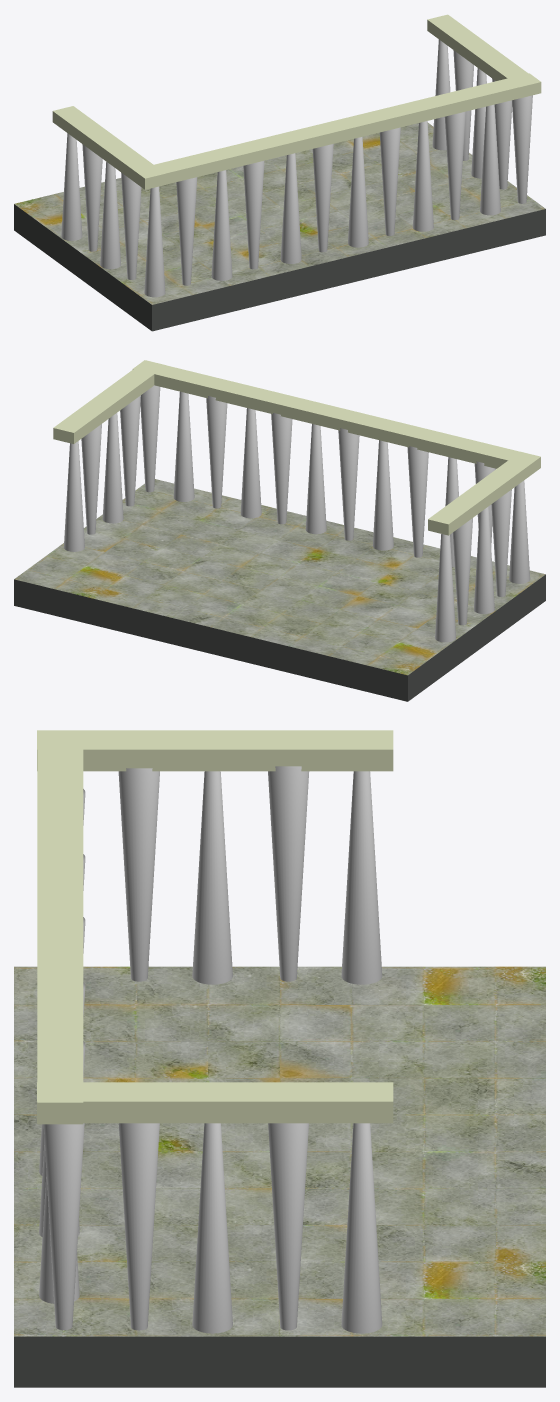
The model's file is balkon.fbx.
The picture shows the model from 3 angles, top to bottom: view 1: azimuth 30°, elevation 25°; view 2: azimuth 150°, elevation 25°; view 3: azimuth 270°, elevation 25°; orthographic projection. The views are drawn at different scales.
Visible parts, largest first — view 1: Plane, Cube.002, Cylinder, Cylinder.004, Cylinder.008, Cylinder.002, Cylinder.010, Cylinder.006, Cylinder.016, Cylinder.018, Cylinder.003, Cylinder.007 (+10 smaller); view 2: Plane, Cube.002, Cylinder.008, Cylinder.004, Cylinder.012, Cylinder.010, Cylinder.003, Cylinder.006, Cylinder.016, Cylinder.007, Cylinder.009, Cylinder.005 (+9 smaller); view 3: Plane, Cube.002, Cylinder.019, Cylinder.017, Cylinder.016, Cylinder.012, Cylinder.018, Cylinder.014, Cylinder.015, Cylinder.011, Cylinder.013, Cylinder.010.
Boxes of the visible parts, bbox=[...] form: Plane: bbox=[14, 122, 545, 331]; Cube.002: bbox=[52, 14, 541, 189]; Cylinder: bbox=[144, 186, 165, 297]; Cylinder.004: bbox=[280, 153, 301, 263]; Cylinder.008: bbox=[412, 121, 433, 231]; Cylinder.002: bbox=[211, 170, 232, 280]; Cylinder.010: bbox=[480, 104, 500, 215]; Cylinder.006: bbox=[347, 137, 368, 247]; Cylinder.016: bbox=[61, 133, 82, 240]; Cylinder.018: bbox=[100, 162, 120, 269]; Cylinder.003: bbox=[243, 160, 264, 269]; Cylinder.007: bbox=[379, 127, 400, 235]; Plane: bbox=[14, 479, 545, 701]; Cube.002: bbox=[53, 360, 540, 535]; Cylinder.008: bbox=[240, 408, 261, 518]; Cylinder.004: bbox=[372, 440, 393, 550]; Cylinder.012: bbox=[63, 441, 84, 551]; Cylinder.010: bbox=[173, 391, 194, 501]; Cylinder.003: bbox=[407, 446, 428, 557]; Cylinder.006: bbox=[305, 424, 326, 534]; Cylinder.016: bbox=[435, 534, 456, 642]; Cylinder.007: bbox=[271, 413, 292, 524]; Cylinder.009: bbox=[206, 396, 227, 508]; Cylinder.005: bbox=[338, 428, 359, 540]; Plane: bbox=[14, 966, 545, 1387]; Cube.002: bbox=[37, 730, 393, 1124]; Cylinder.019: bbox=[118, 768, 159, 981]; Cylinder.017: bbox=[268, 766, 309, 981]; Cylinder.016: bbox=[341, 771, 382, 984]; Cylinder.012: bbox=[341, 1123, 382, 1333]; Cylinder.018: bbox=[192, 771, 232, 984]; Cylinder.014: bbox=[192, 1123, 232, 1333]; Cylinder.015: bbox=[118, 1123, 159, 1330]; Cylinder.011: bbox=[43, 1123, 84, 1330]; Cylinder.013: bbox=[268, 1123, 308, 1330]; Cylinder.010: bbox=[39, 1174, 79, 1303].
Bounding box in the file's own units: 819 × 294 × 494.
4 materials, 1 textured.
